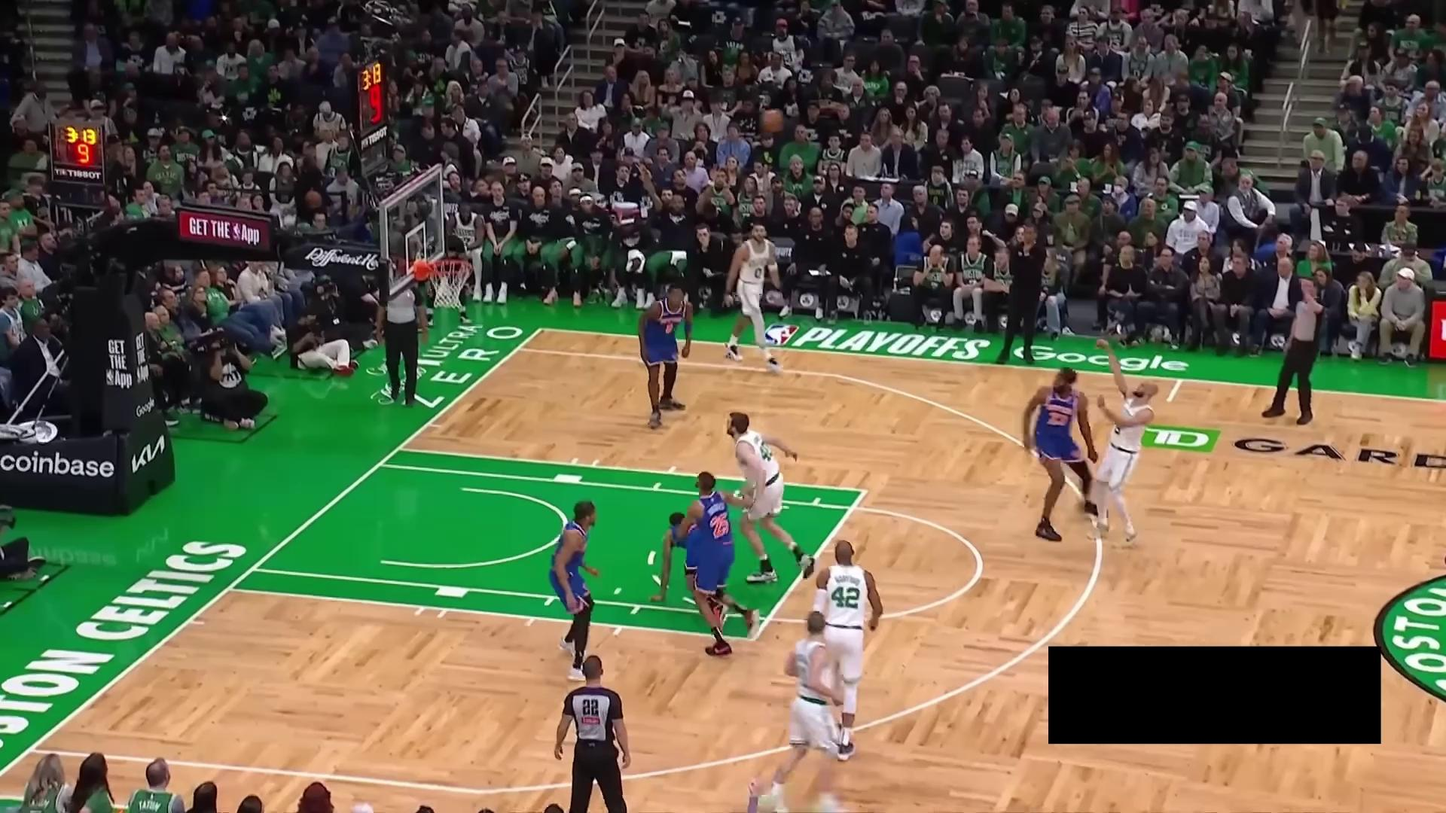ball: (759, 105, 785, 133)
number: (827, 584, 862, 610), (708, 511, 730, 538), (1046, 411, 1070, 427), (759, 440, 774, 462), (753, 267, 763, 279), (665, 321, 674, 334)
player: (747, 611, 845, 813), (1080, 335, 1161, 549), (807, 540, 886, 759), (723, 406, 816, 588), (678, 468, 765, 662), (1022, 366, 1106, 542), (657, 508, 762, 639), (544, 496, 607, 683), (722, 218, 786, 375), (634, 282, 697, 428)
referee: (550, 653, 638, 813), (1261, 276, 1330, 422), (375, 276, 433, 409)
rim: (428, 257, 477, 279)
